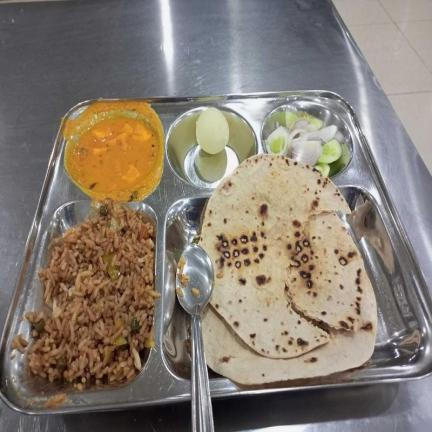Chhaina: (196, 108, 230, 154)
Fried Rice: (6, 197, 161, 389)
Paneer: (73, 117, 160, 194)
Plate: (2, 90, 431, 414)
Roti: (200, 154, 376, 385)
Salad: (266, 107, 344, 179)
